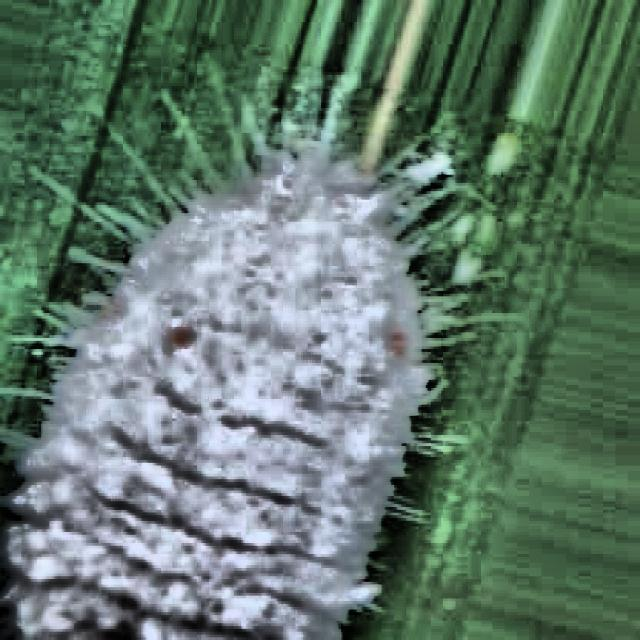Mealy-bug: (8, 94, 490, 637)
